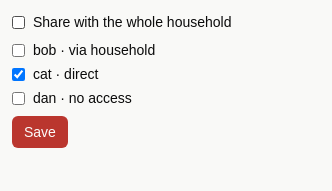
Test: WalletSharingRow › surfaces an action error in the status line
This screenshot has width=332, height=191.
Click the button with aria-label "Save sharing for Everyday" at (40, 132), box left=12, top=116, right=68, bottom=148
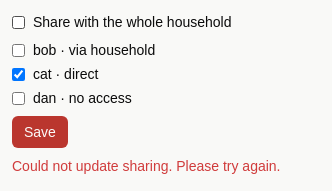
Result: the text "Could not update sharing. Please try again." is shown at left=12, top=158, right=280, bottom=174
